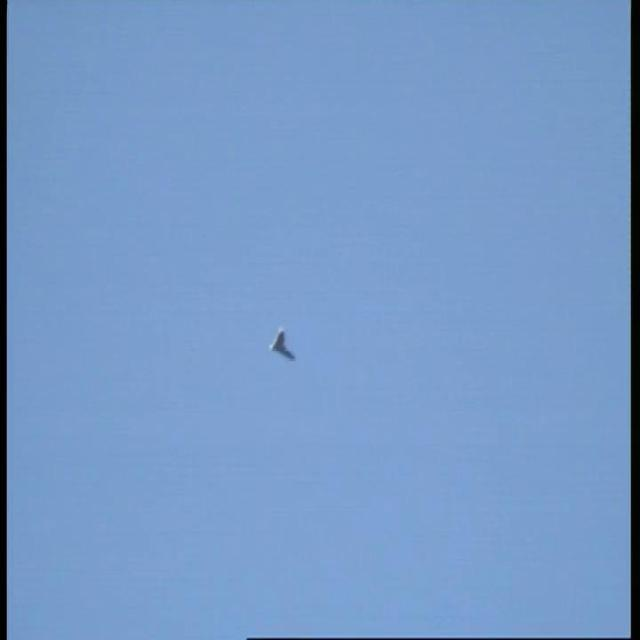drone: (263, 321, 300, 366)
